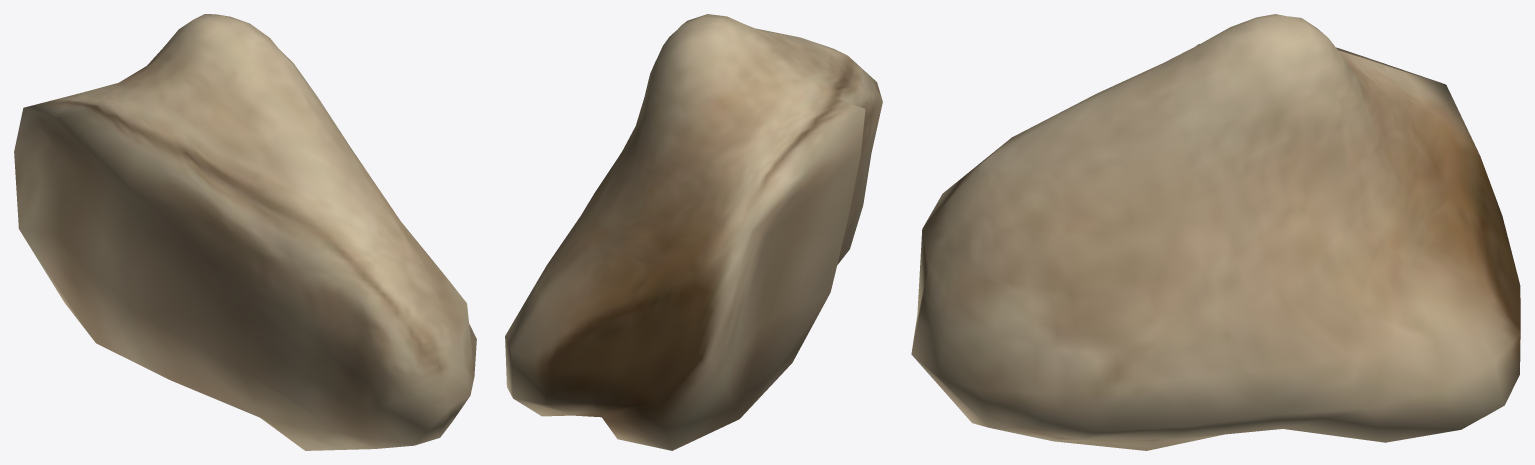
The model's file is Maxilary_Premolar.glb.
3 views of the same model, side by side, from view 1: azimuth 30°, elevation 25°; view 2: azimuth 150°, elevation 25°; view 3: azimuth 270°, elevation 25° (orthographic). The views are drawn at different scales.
Parts seen in each view (by area): view 1: Premolar6; view 2: Premolar6; view 3: Premolar6.
Part boxes in pixels (x1,y1,x2,y2): Premolar6: (14,14,476,450); Premolar6: (505,14,882,450); Premolar6: (911,14,1520,450).
Bounding box in the file's own units: 0.0211 × 0.0269 × 0.0359.
1 material, 1 textured.
